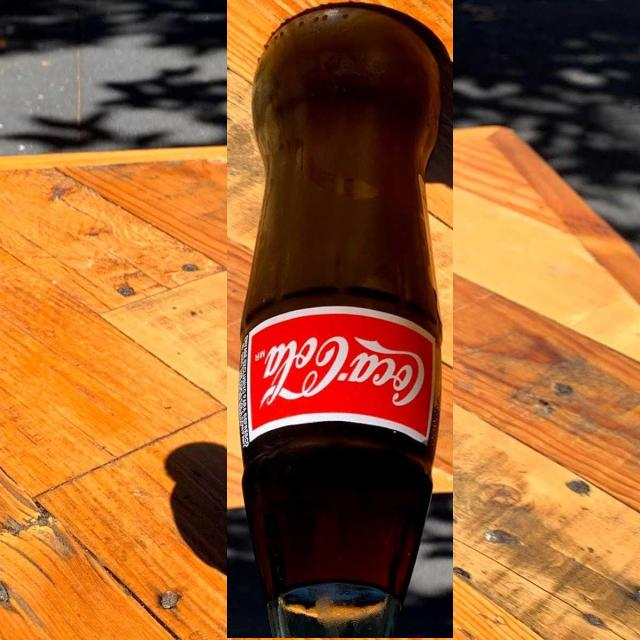coca-cola: (227, 0, 453, 638)
